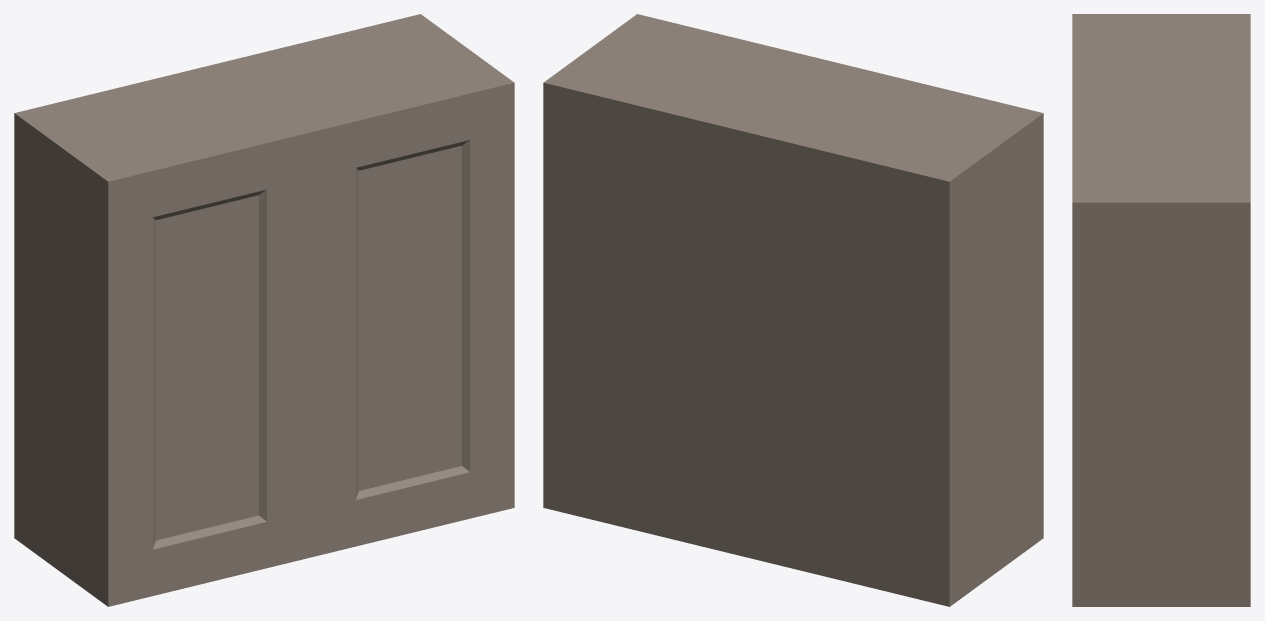
The model's file is WHP-Wall-Cabinet-Double-Door-Shelves_std_001_H30in_onlyH.glb.
3 views of the same model, side by side, from view 1: azimuth 30°, elevation 25°; view 2: azimuth 150°, elevation 25°; view 3: azimuth 270°, elevation 25° (orthographic). The views are drawn at different scales.
Parts seen in each view (by area): view 1: WHP-Wall-Cabinet-Double-Door-Shelves.std.001_H30in_onlyH; view 2: WHP-Wall-Cabinet-Double-Door-Shelves.std.001_H30in_onlyH; view 3: WHP-Wall-Cabinet-Double-Door-Shelves.std.001_H30in_onlyH.
Part boxes in pixels (x1,y1,x2,y2): WHP-Wall-Cabinet-Double-Door-Shelves.std.001_H30in_onlyH: (14,14,514,606); WHP-Wall-Cabinet-Double-Door-Shelves.std.001_H30in_onlyH: (543,14,1043,606); WHP-Wall-Cabinet-Double-Door-Shelves.std.001_H30in_onlyH: (1072,14,1250,606).
Bounding box in the file's own units: 0.762 × 0.762 × 0.3048.
